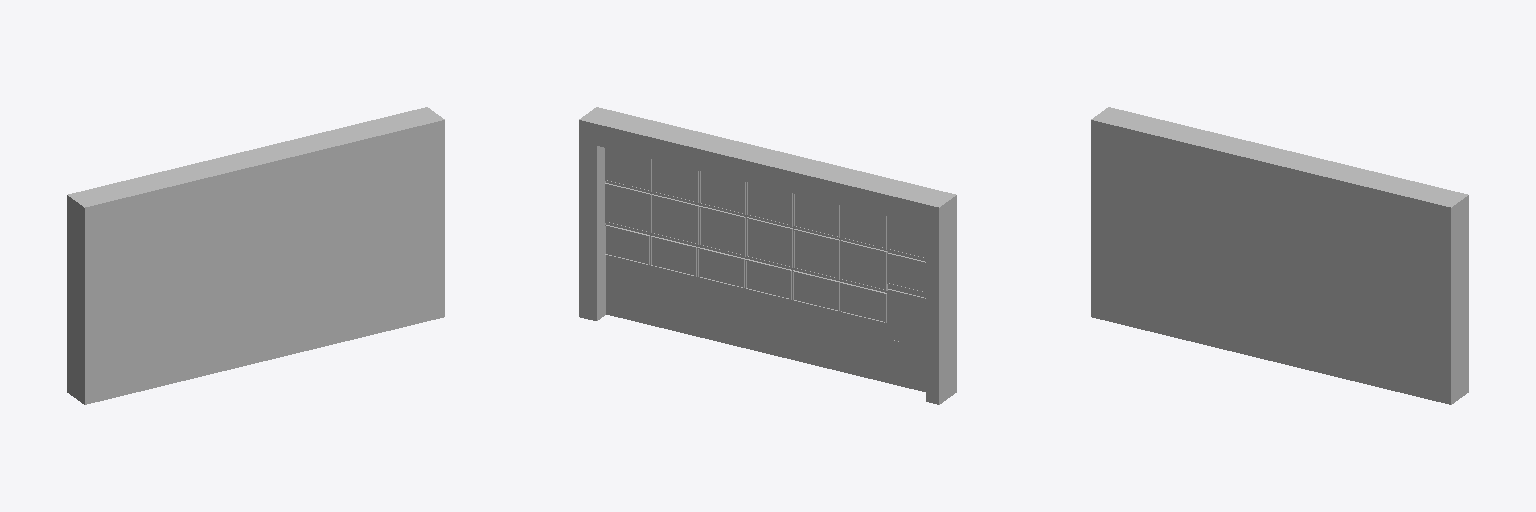
File: wall Door.obj
3 renders of one model, left to right at view 1: azimuth 30°, elevation 25°; view 2: azimuth 150°, elevation 25°; view 3: azimuth 330°, elevation 25°, orthographic.
Visible parts, largest first — view 1: Cube.002; view 2: Cube.002; view 3: Cube.002.
Part boxes in pixels (left/top/right/bottom): Cube.002: left=67, top=107, right=444, bottom=404; Cube.002: left=579, top=107, right=956, bottom=404; Cube.002: left=1091, top=107, right=1468, bottom=404.
Bounding box in the file's own units: 20.1 × 10.52 × 1.7.